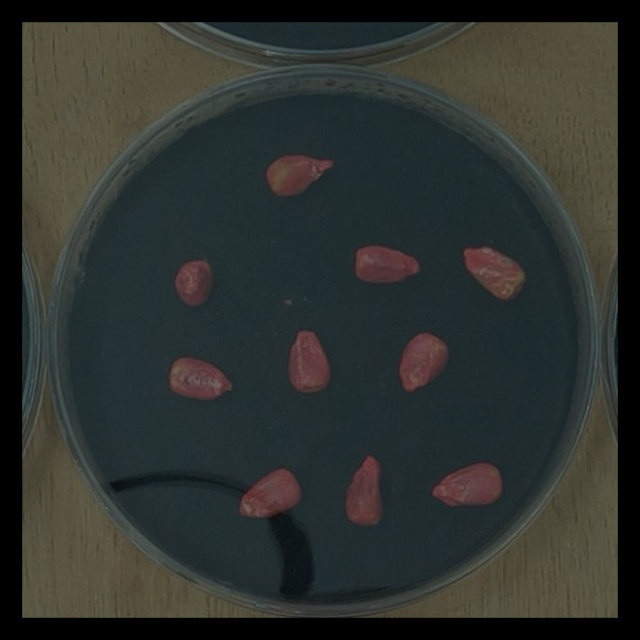Zea mays: (455, 240, 533, 309), (426, 455, 508, 513), (260, 147, 340, 205), (232, 464, 306, 526), (163, 349, 241, 407), (394, 327, 455, 400), (338, 446, 389, 532), (282, 325, 337, 400), (348, 239, 427, 291), (170, 253, 218, 315)
